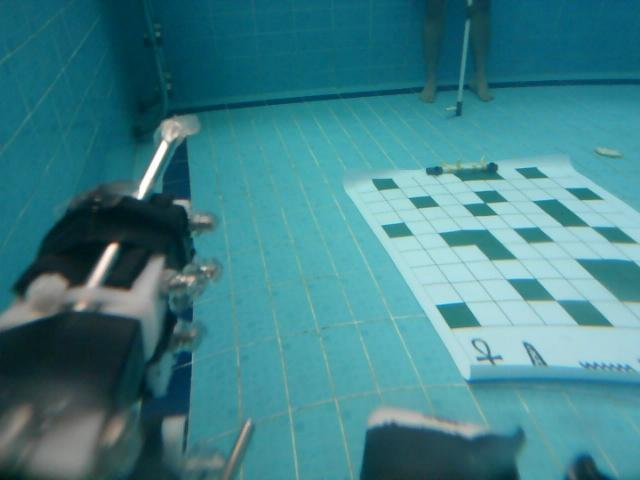Ankh: (468, 336, 505, 368)
Reed: (521, 339, 549, 371)
Water: (575, 359, 640, 373)
